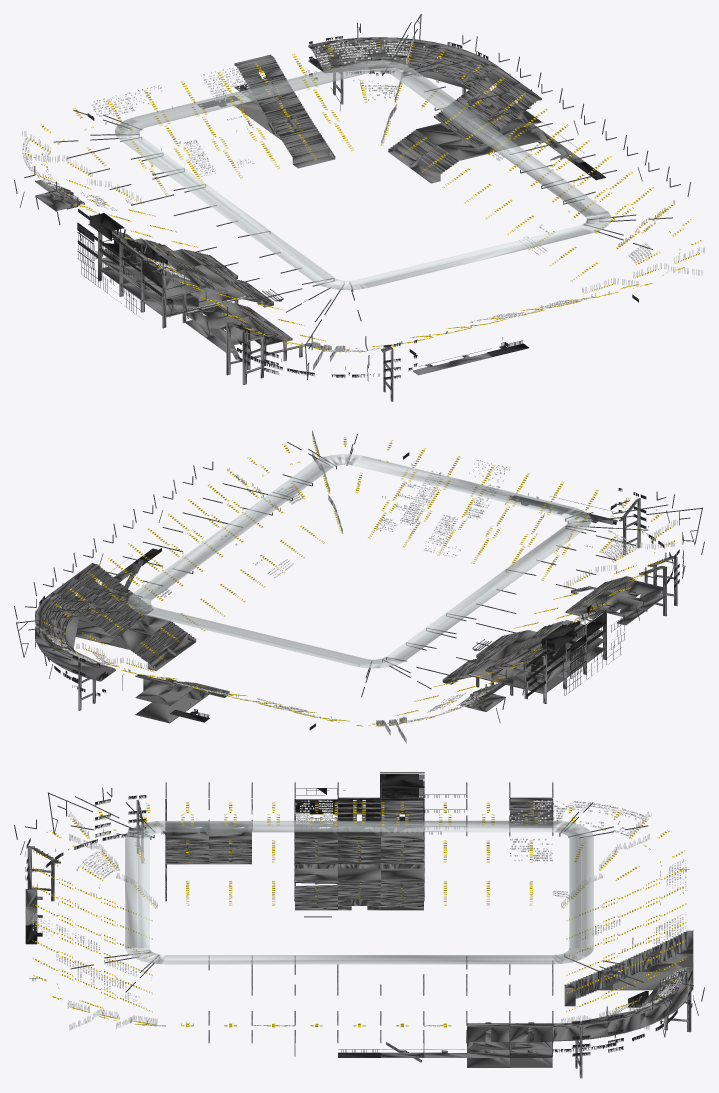
Rendered from modern_stadium_part04.glb.
3 renders of one model, top to bottom at view 1: azimuth 30°, elevation 25°; view 2: azimuth 150°, elevation 25°; view 3: azimuth 270°, elevation 25°, orthographic. The views are drawn at different scales.
Visible parts, largest first — view 1: Material2.004, Material2.148, Material3.007, Material2.005+Material2.010, Material2.081, Material2.033+Material2.034+Material2.050, Material3.011; view 2: Material2.004, Material2.148, Material3.007, Material2.005+Material2.010, Material2.033+Material2.034+Material2.050, Material2.081, Material3.011; view 3: Material2.004, Material2.148, Material2.005+Material2.010, Material3.007, Material2.081, Material2.033+Material2.034+Material2.050, Material3.011.
Boxes of the visible parts, left/top/right/bottom form: Material2.004: left=35, top=37, right=584, bottom=401; Material2.148: left=115, top=60, right=611, bottom=289; Material3.007: left=22, top=42, right=701, bottom=352; Material2.005+Material2.010: left=77, top=36, right=638, bottom=380; Material2.081: left=22, top=40, right=651, bottom=352; Material2.033+Material2.034+Material2.050: left=14, top=14, right=690, bottom=381; Material3.011: left=22, top=35, right=704, bottom=370; Material2.004: left=35, top=496, right=677, bottom=723; Material2.148: left=128, top=454, right=590, bottom=668; Material3.007: left=42, top=437, right=676, bottom=726; Material2.005+Material2.010: left=35, top=452, right=683, bottom=730; Material2.033+Material2.034+Material2.050: left=14, top=434, right=704, bottom=722; Material2.081: left=45, top=460, right=657, bottom=724; Material3.011: left=41, top=430, right=677, bottom=743; Material2.004: left=25, top=797, right=693, bottom=1078; Material2.148: left=125, top=821, right=593, bottom=964; Material2.005+Material2.010: left=25, top=772, right=693, bottom=1057; Material3.007: left=32, top=802, right=686, bottom=1027; Material2.081: left=32, top=800, right=686, bottom=1026; Material2.033+Material2.034+Material2.050: left=14, top=782, right=704, bottom=1056; Material3.011: left=67, top=810, right=651, bottom=1030.
Bounding box in the file's own units: 179 × 27.78 × 209.
Materials: 9 (4 with a texture image).
